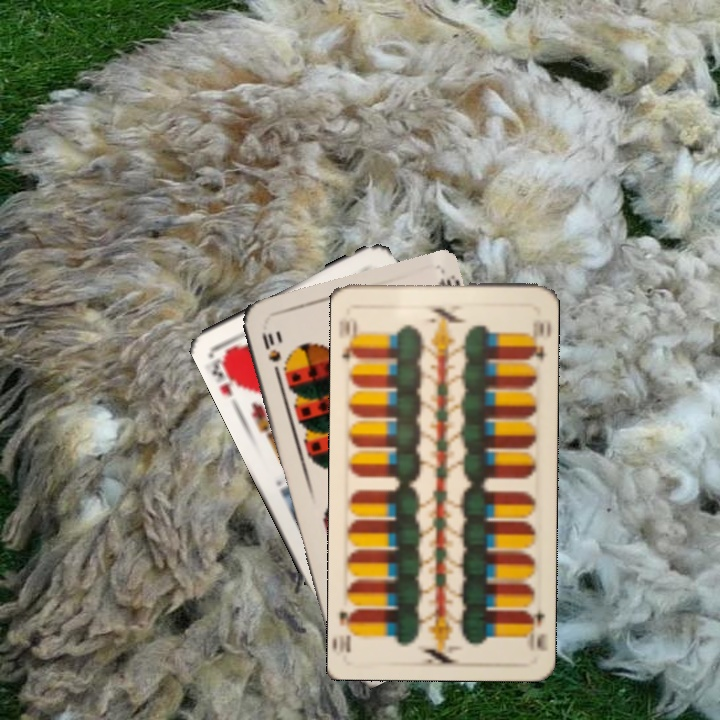E10: (520, 596, 547, 654), (338, 313, 364, 363)
HK: (204, 344, 247, 399)
S10: (257, 328, 284, 380)
